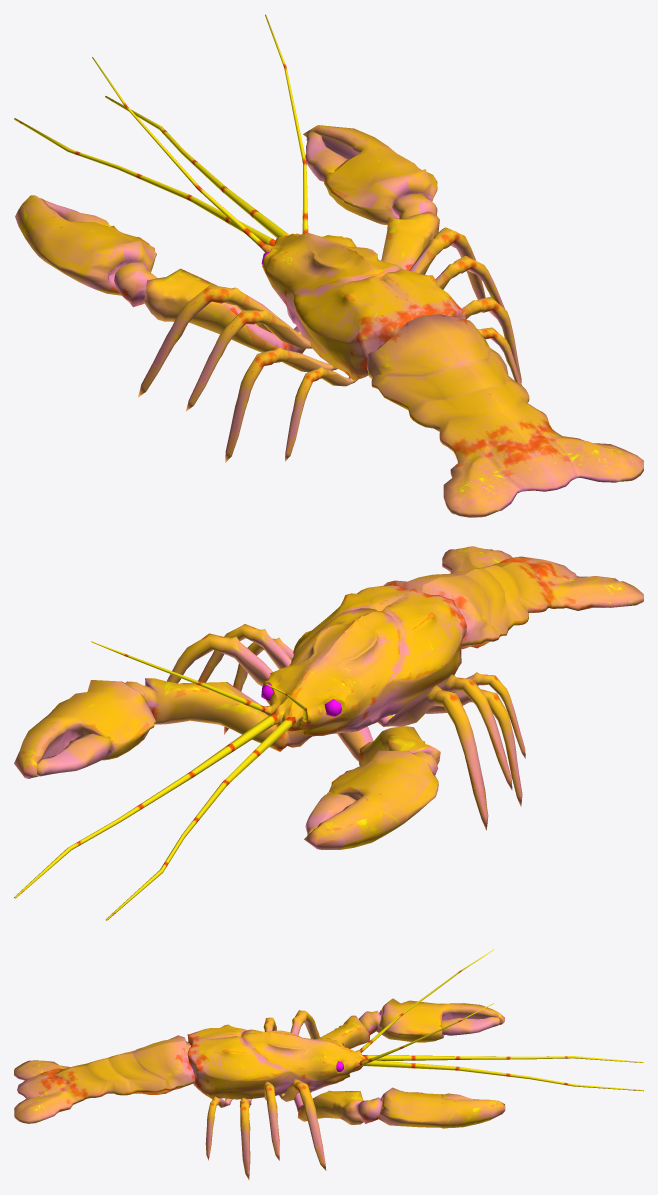
The picture shows the model from 3 angles, top to bottom: view 1: azimuth 30°, elevation 25°; view 2: azimuth 150°, elevation 25°; view 3: azimuth 270°, elevation 25°; orthographic projection. The views are drawn at different scales.
Visible parts, largest first — view 1: Body_flippednorm_Retopo_LP; view 2: Body_flippednorm_Retopo_LP; view 3: Body_flippednorm_Retopo_LP.
Part boxes in pixels (x1,y1,x2,y2): Body_flippednorm_Retopo_LP: (14,14,643,517); Body_flippednorm_Retopo_LP: (14,546,643,920); Body_flippednorm_Retopo_LP: (14,949,643,1179).
Bounding box in the file's own units: 9.84 × 6.26 × 22.55.
Materials: 1 (1 with a texture image).
